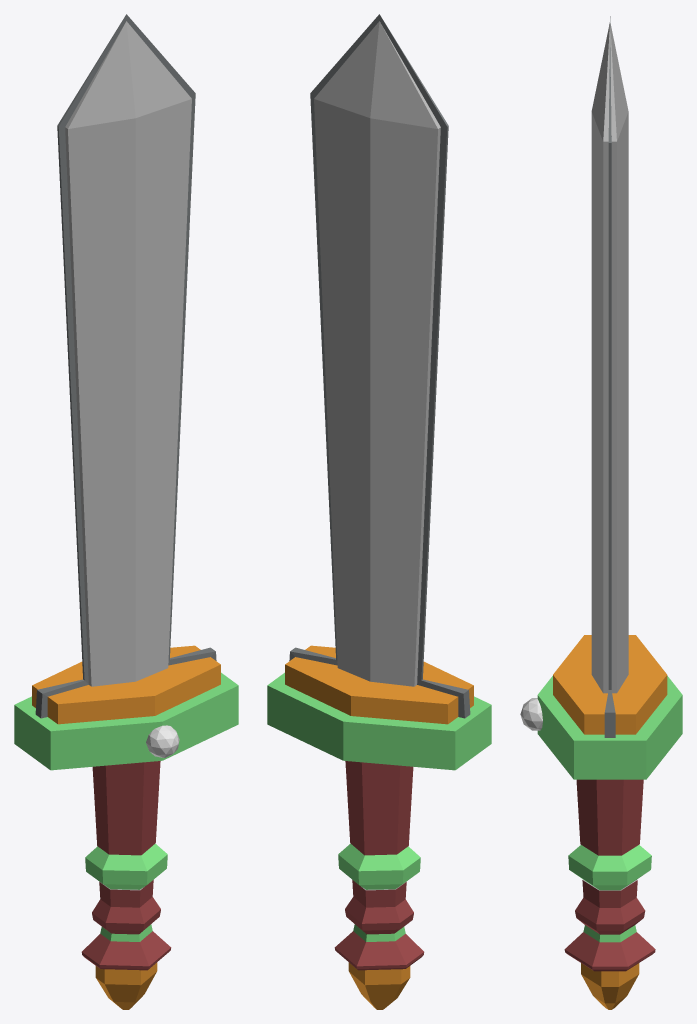
File: sword.fbx
3 views of the same model, side by side, from view 1: azimuth 30°, elevation 25°; view 2: azimuth 150°, elevation 25°; view 3: azimuth 270°, elevation 25° (orthographic).
Visible parts, largest first — view 1: Cylinder; view 2: Cylinder; view 3: Cylinder.
Part boxes in pixels (<box>): Cylinder: <box>14,14,238,1009</box>; Cylinder: <box>267,14,491,1009</box>; Cylinder: <box>520,16,682,1009</box>.
Size of the model in its own units: 222 by 1123 by 166.
